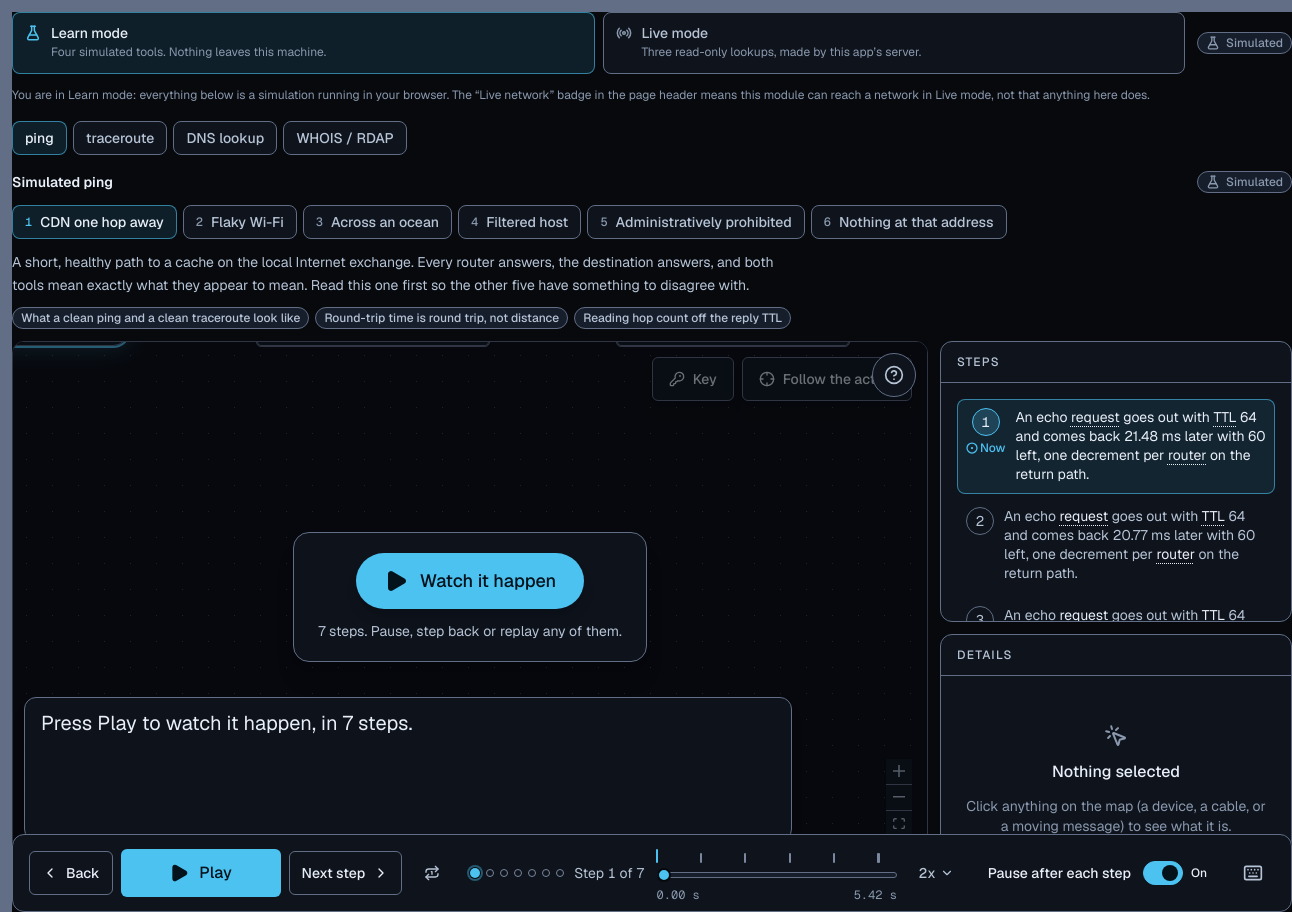
Scenario: the acknowledgement gate › does not enter Live mode on the first press; it states what will happen instead
Click the button "Live mode": point(894, 43) [602,12,1185,74]
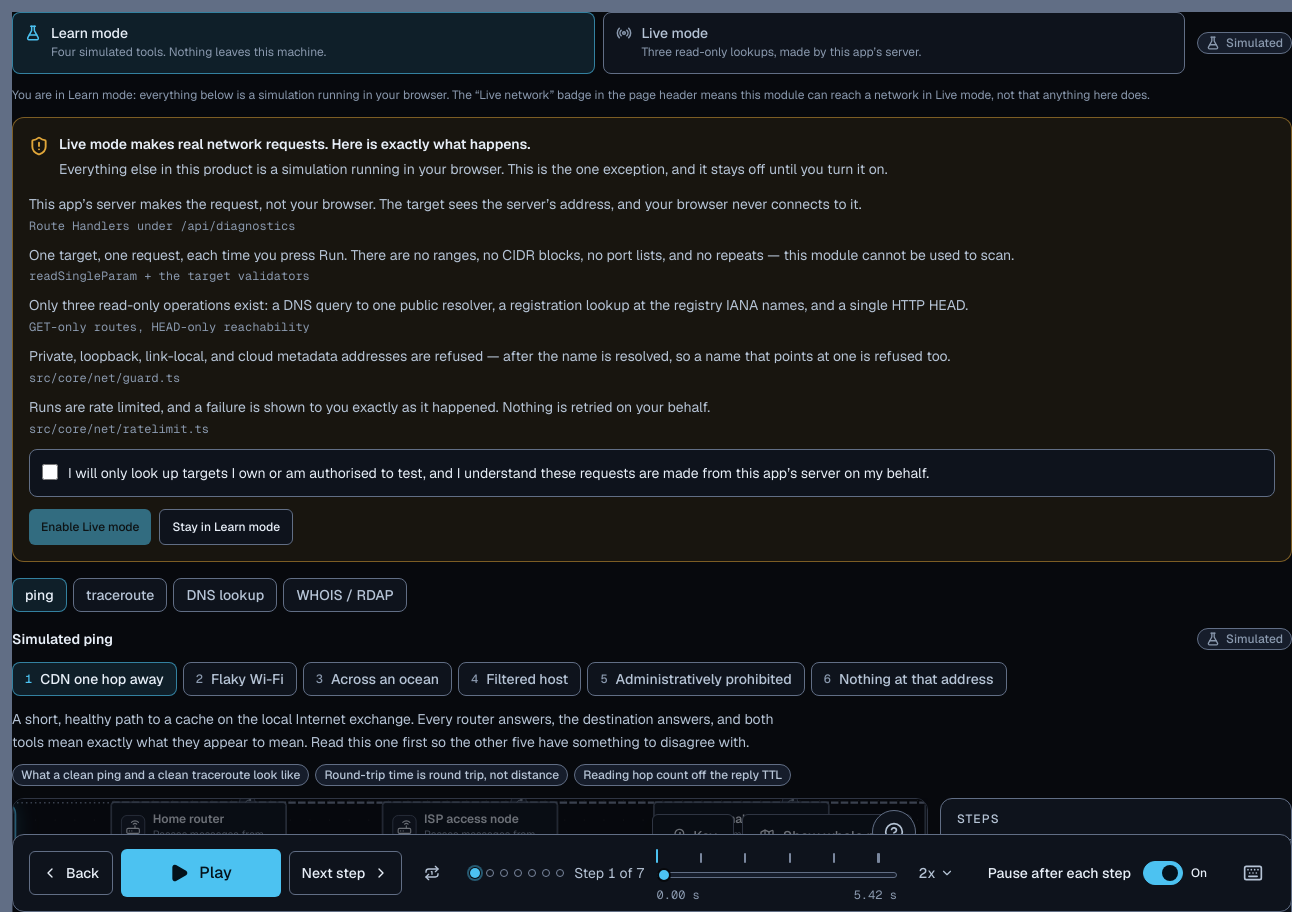
Expected: the heading "Live mode makes real network requests" is shown, [59,135,530,153]
Expected: the text "server makes the request, not your browser" is shown, [29,195,862,213]
Expected: the text "One target, one request" is shown, [29,246,1014,264]
